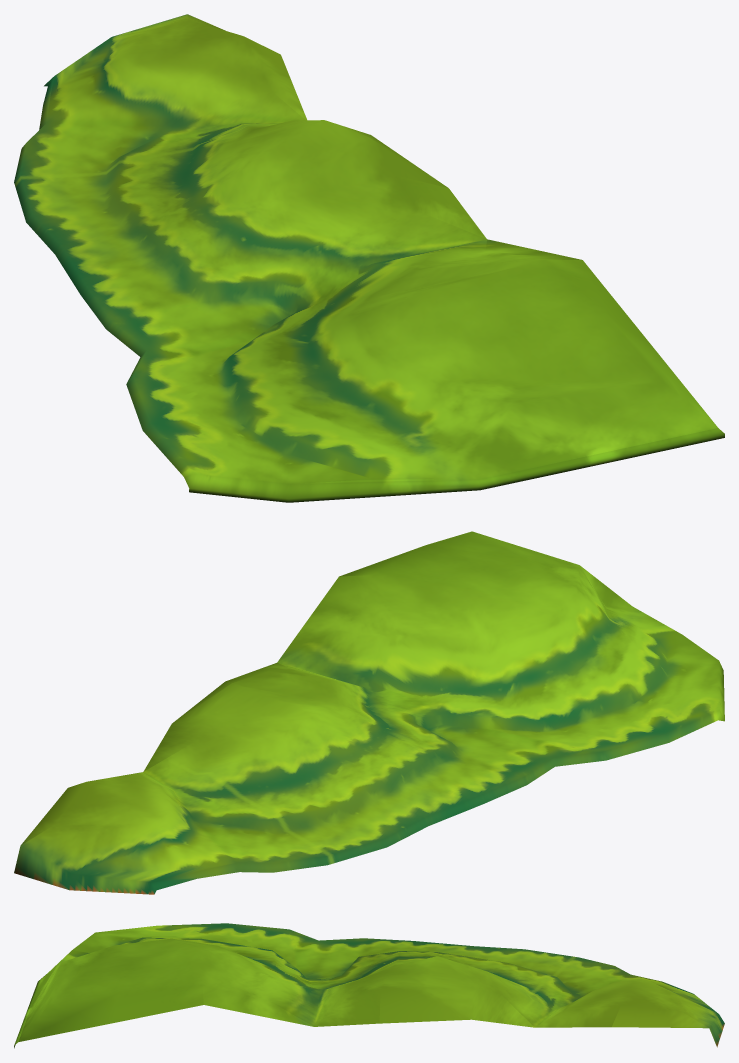
File: SM_Hill_02.fbx
3 views of the same model, one above another, from view 1: azimuth 30°, elevation 25°; view 2: azimuth 150°, elevation 25°; view 3: azimuth 270°, elevation 25° (orthographic). The views are drawn at different scales.
Visible parts, largest first — view 1: SM_Platform_Portal_03; view 2: SM_Platform_Portal_03; view 3: SM_Platform_Portal_03.
Boxes of the visible parts, box(x1,y1,x2,y2) form: SM_Platform_Portal_03: box(14, 14, 724, 502); SM_Platform_Portal_03: box(14, 531, 724, 894); SM_Platform_Portal_03: box(14, 923, 724, 1048).
Size of the model in its own units: 1157 by 283 by 2483.
